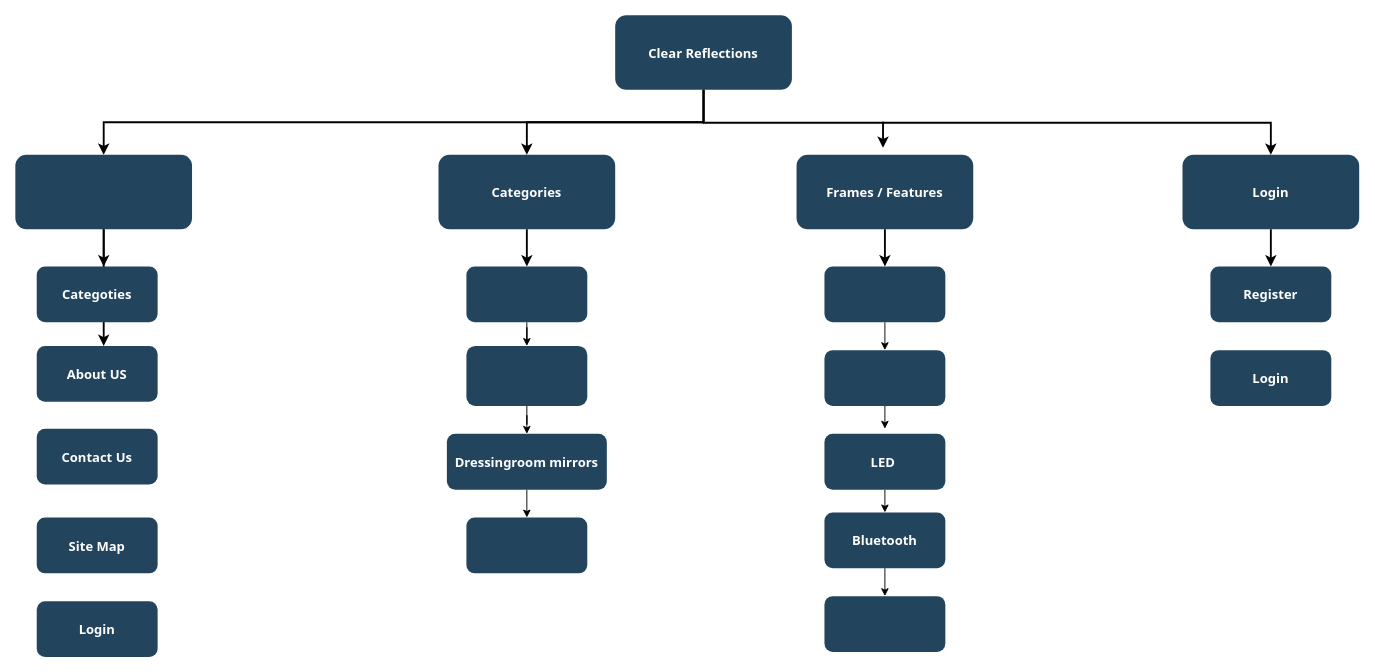
Image size: 1375x672. Some labels were removed from this diagram. Each missing label, with the centre of its shape:
"Bathroom mirrors" belongs at [526,375].
"Bedroom mirrors" belongs at [526,545].
"Decorative" belongs at [884,623].
"Home" belongs at [103,191].
"Livingroom mirror" belongs at [526,294].
"Metal" belongs at [884,377].
"Wooden" belongs at [884,294].
